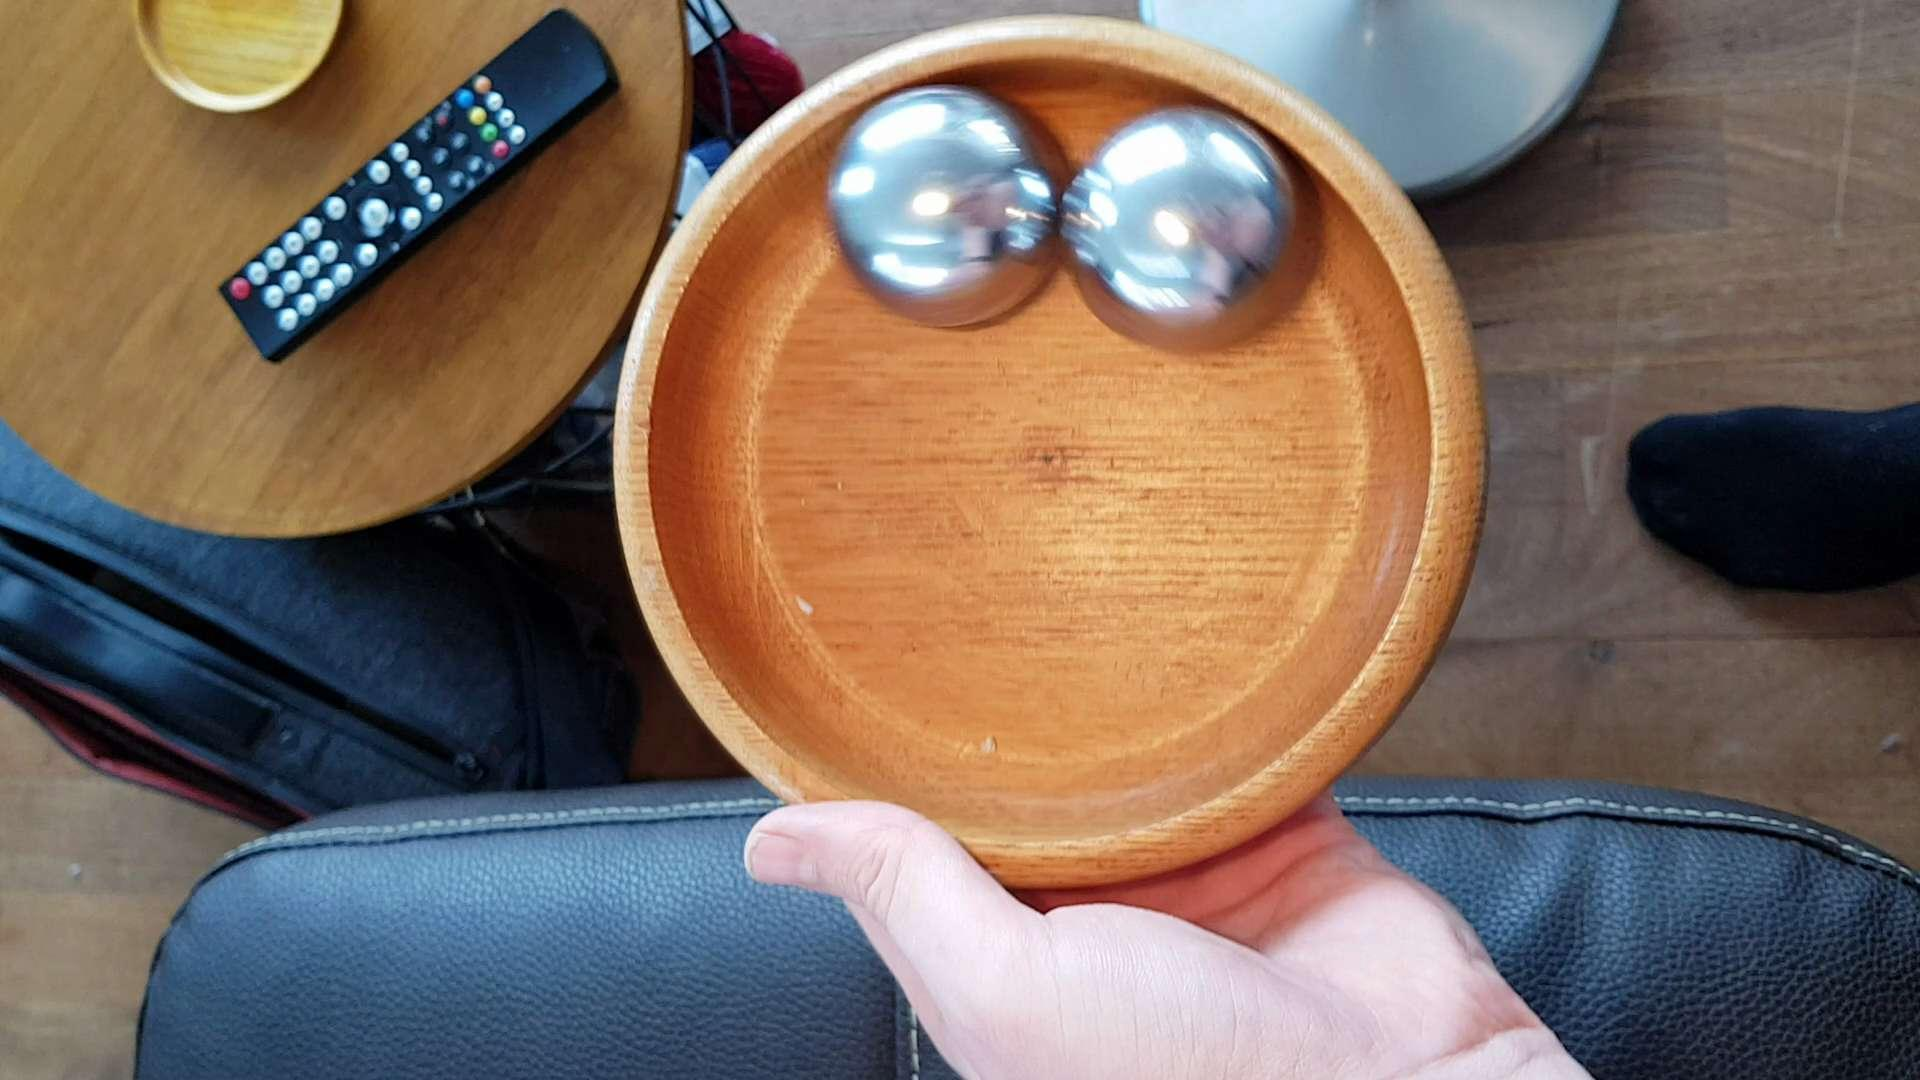sphere: (1058, 96, 1302, 353), (831, 102, 1050, 328)
